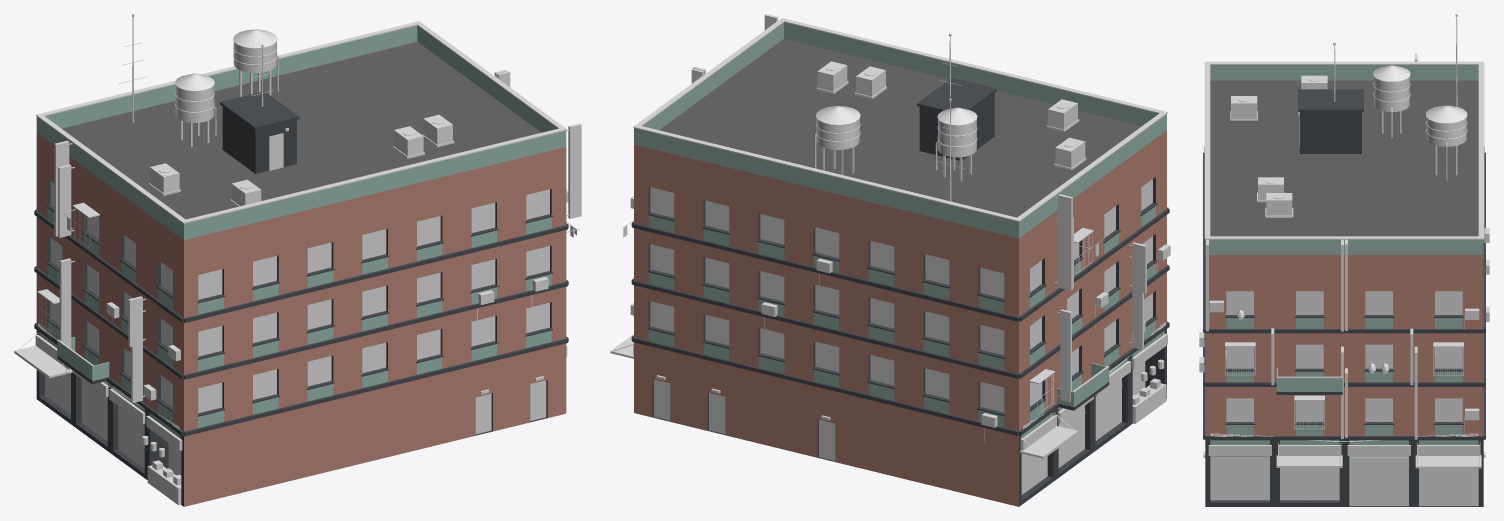
The model's file is Plaza_Block_14.fbx.
The picture shows the model from 3 angles, left to right: view 1: azimuth 30°, elevation 25°; view 2: azimuth 150°, elevation 25°; view 3: azimuth 270°, elevation 25°; orthographic projection. The views are drawn at different scales.
Visible parts, largest first — view 1: Plaza_Block_14_LOD0; view 2: Plaza_Block_14_LOD0; view 3: Plaza_Block_14_LOD0.
Part boxes in pixels (x1=…): Plaza_Block_14_LOD0: x1=14, y1=14, x2=581, y2=506; Plaza_Block_14_LOD0: x1=610, y1=14, x2=1170, y2=506; Plaza_Block_14_LOD0: x1=1199, y1=14, x2=1489, y2=506.
Size of what is drawn, in the model's own units: 27.1 by 22.57 by 16.73.
